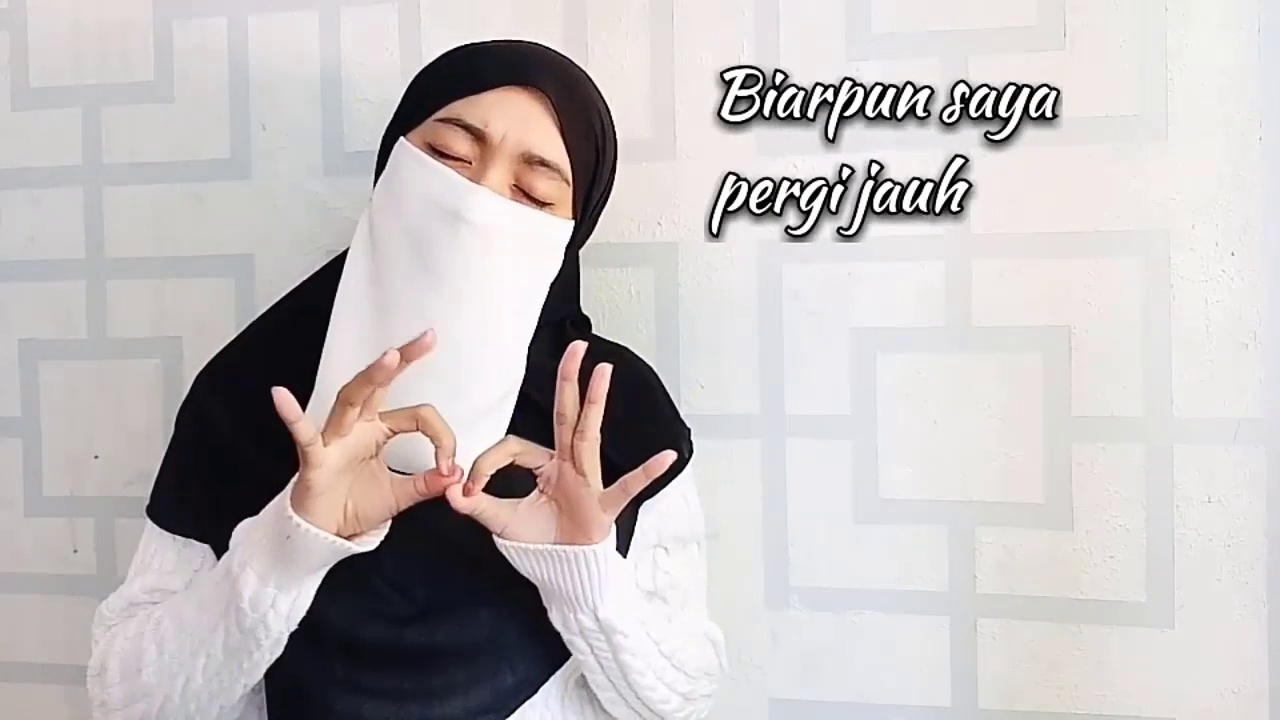JAUH: (225, 305, 690, 607)
